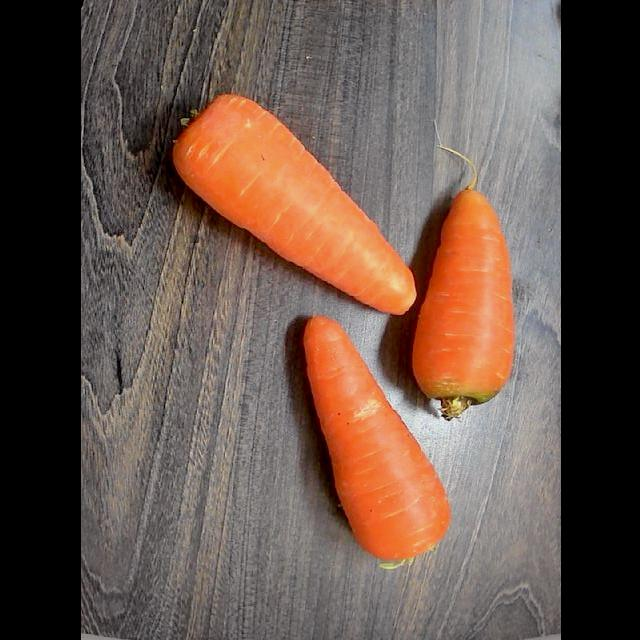zanahoria: (173, 95, 415, 315), (303, 317, 450, 568), (412, 144, 514, 421)
